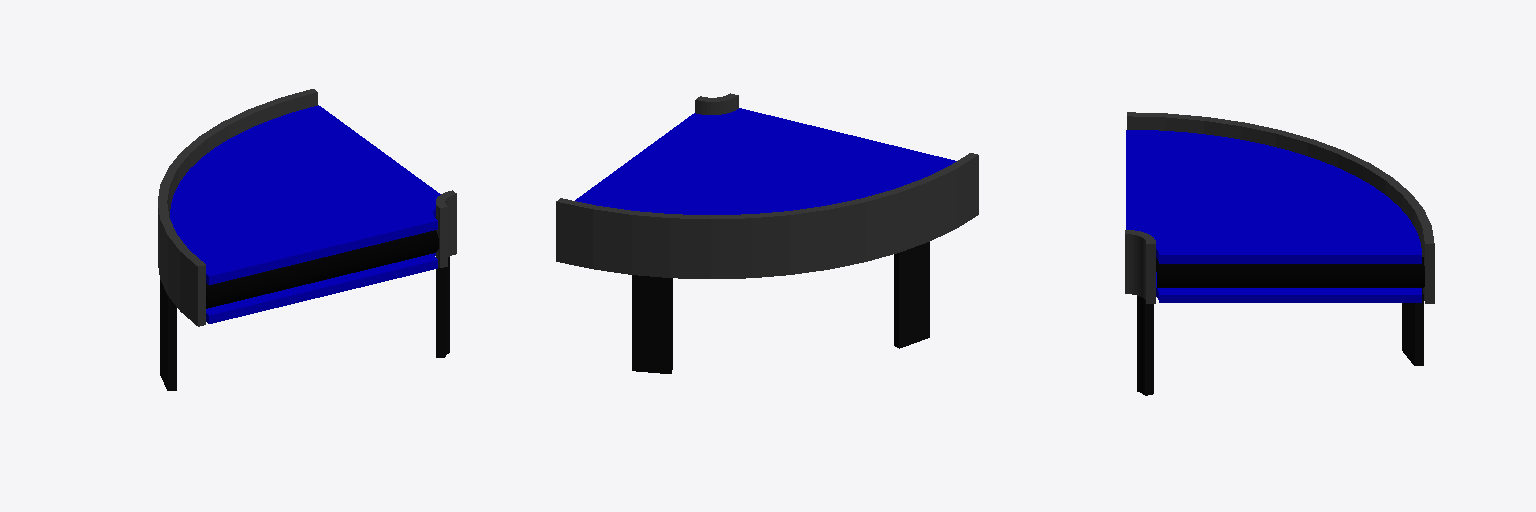
File: belt_curve_right.obj
3 views of the same model, side by side, from view 1: azimuth 30°, elevation 25°; view 2: azimuth 150°, elevation 25°; view 3: azimuth 270°, elevation 25° (orthographic).
Parts seen in each view (by area): view 1: KurveRechts; view 2: KurveRechts; view 3: KurveRechts.
Boxes of the visible parts, box(x1,y1,x2,y2) form: KurveRechts: box(158, 89, 456, 390); KurveRechts: box(556, 93, 978, 373); KurveRechts: box(1125, 112, 1434, 395).
Size of the model in its own units: 1.88 by 1.04 by 1.86.